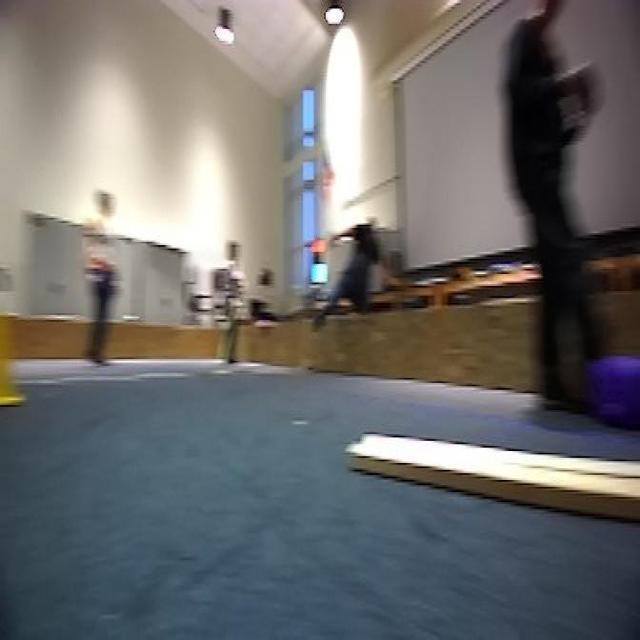frc_cone: (0, 312, 28, 405)
frc_cube: (591, 357, 640, 441)
